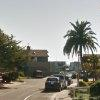Palm tree: (58, 10, 95, 71)
